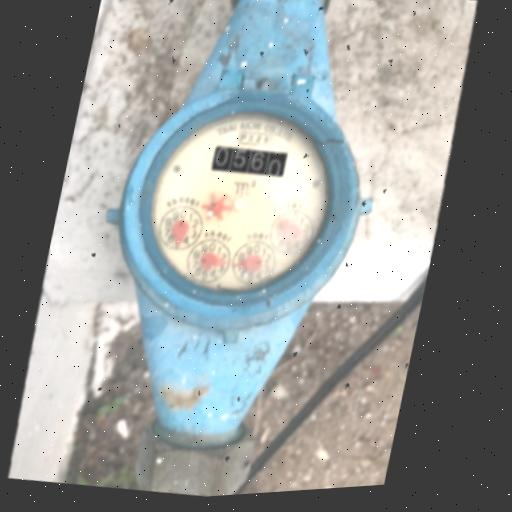0: (210, 144, 233, 173), (265, 150, 286, 177)
5: (228, 147, 250, 174)
6: (246, 148, 268, 175)
border_water_meter_number: (209, 141, 288, 182)
